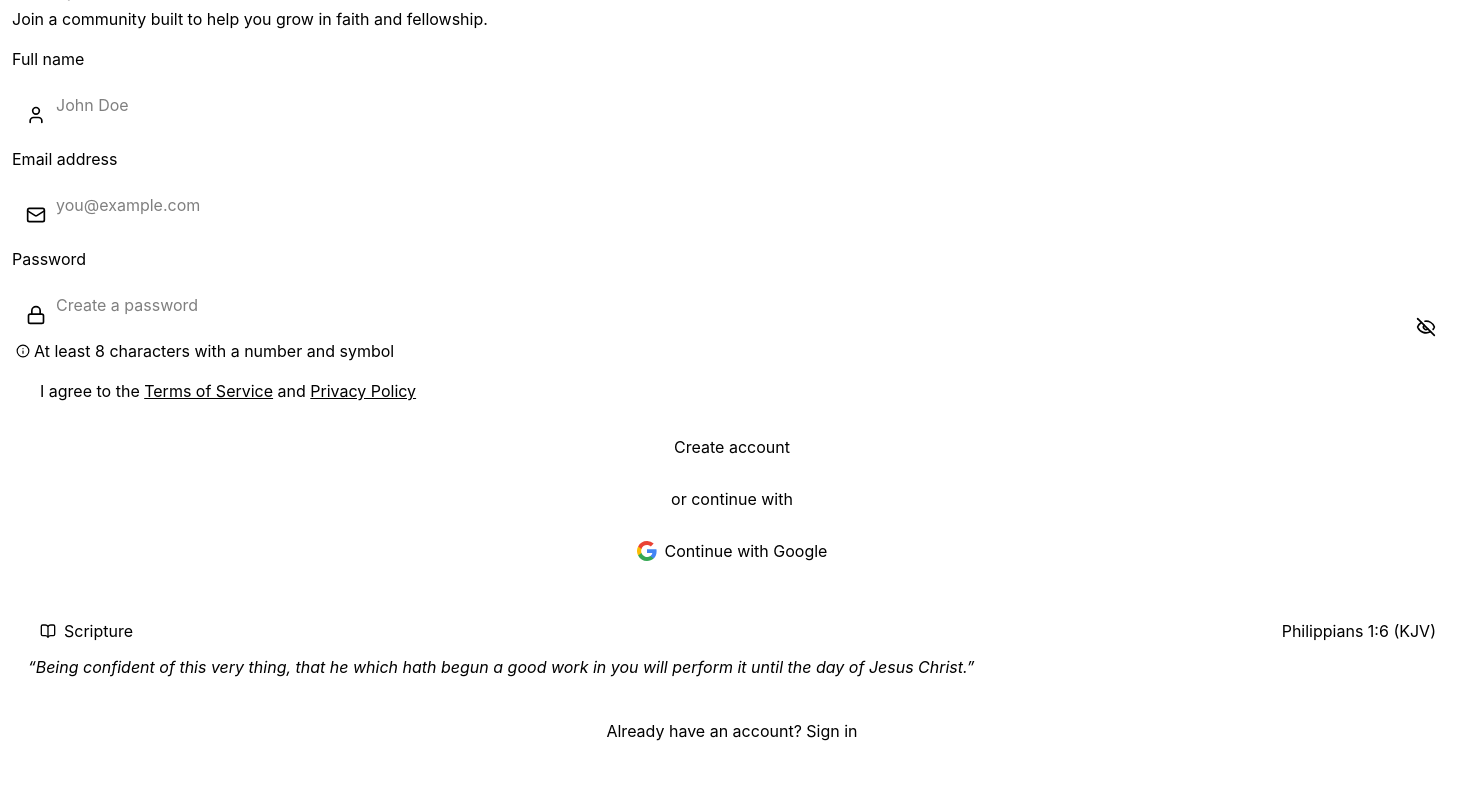
Test: Create account page › requires every field and the terms on submit
The image size is (1464, 799).
(page scrolled)
Click the button "Create account". click: [732, 447]
box: [12,423,1452,471]
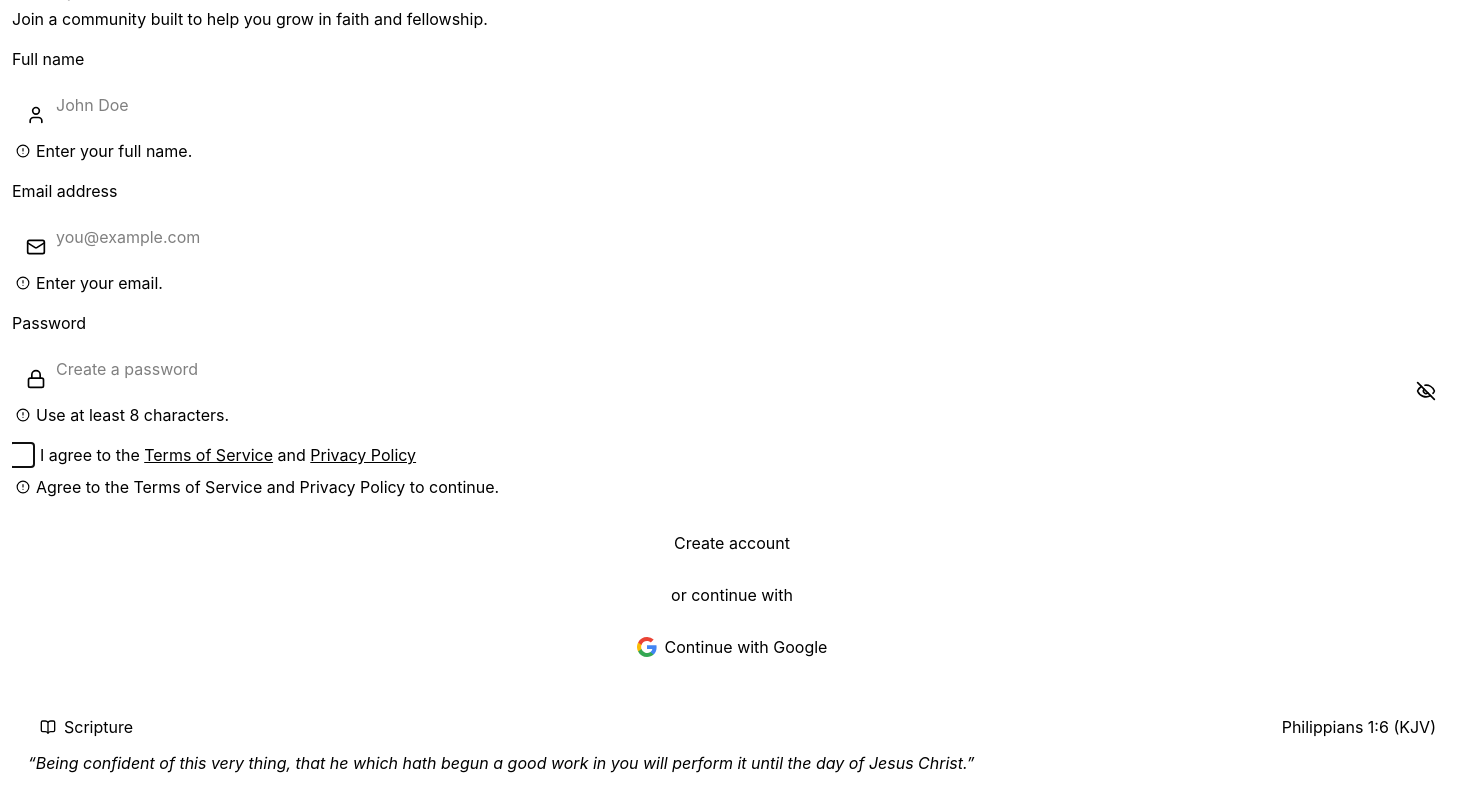
Expected: the text "Enter your full name." is shown, [16,141,192,161]
Expected: the text "Enter your email." is shown, [16,273,163,293]
Expected: the text "Use at least 8 characters." is shown, [16,405,229,425]
